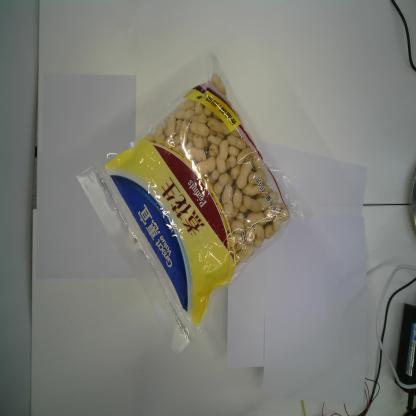Dried Food: (76, 52, 310, 354)
